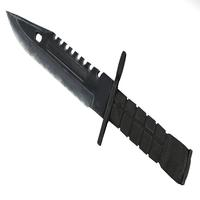knife: (2, 8, 194, 171)
